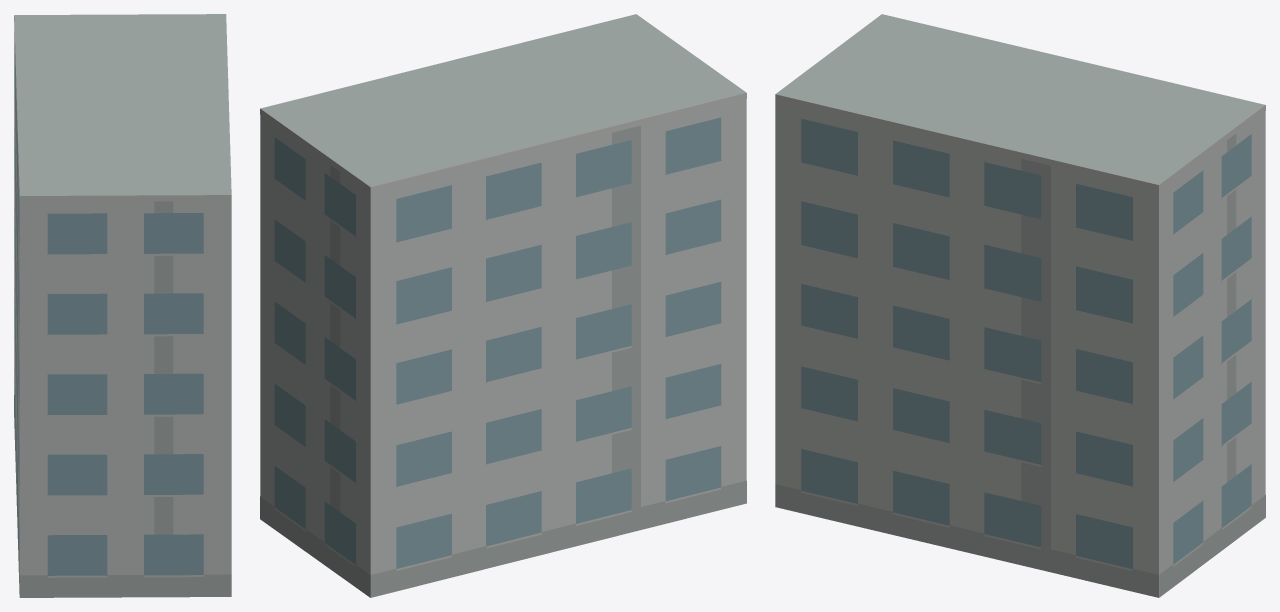
Rendered from survey-upis-32566718.glb.
The picture shows the model from 3 angles, left to right: view 1: azimuth 30°, elevation 25°; view 2: azimuth 150°, elevation 25°; view 3: azimuth 270°, elevation 25°; orthographic projection. The views are drawn at different scales.
Parts seen in each view (by area): view 1: survey-upis-32566718.tmp; view 2: survey-upis-32566718.tmp; view 3: survey-upis-32566718.tmp.
Boxes of the visible parts, <box> form: survey-upis-32566718.tmp: <box>14,14,231,597</box>; survey-upis-32566718.tmp: <box>260,14,746,597</box>; survey-upis-32566718.tmp: <box>775,14,1265,597</box>.
Size of the model in its own units: 14.32 by 16.1 by 17.35.
